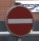No entry: (5, 5, 34, 36)
